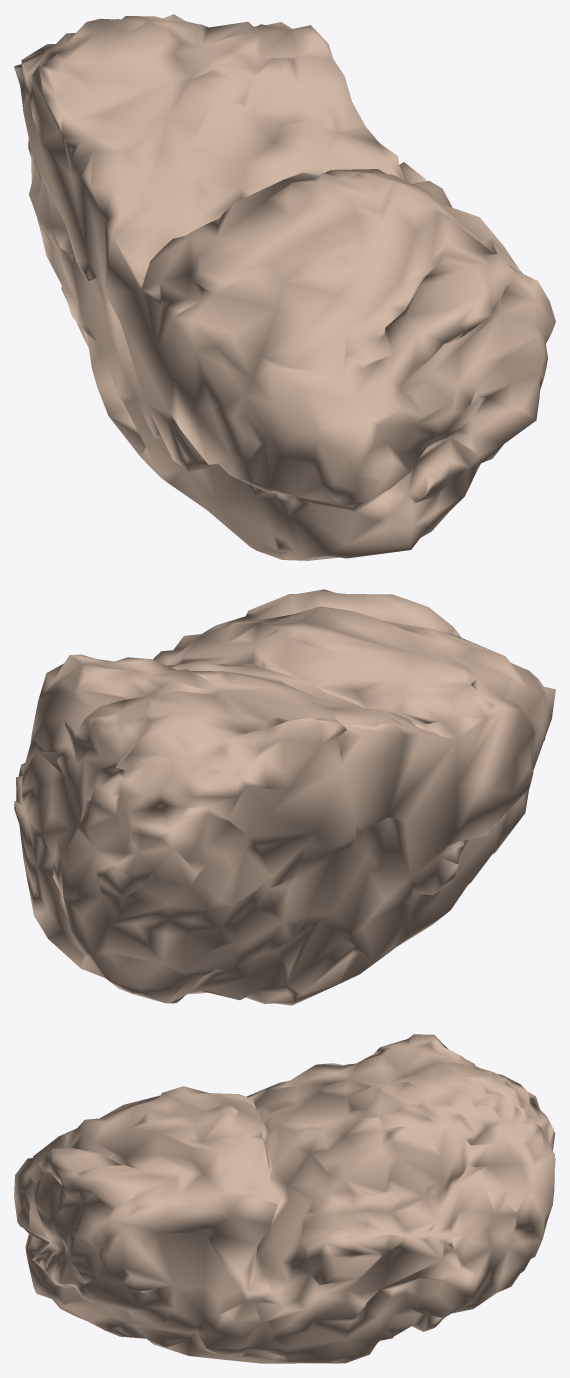
File: rk_boulder_b.glb
3 renders of one model, top to bottom at view 1: azimuth 30°, elevation 25°; view 2: azimuth 150°, elevation 25°; view 3: azimuth 270°, elevation 25°, orthographic. The views are drawn at different scales.
Parts seen in each view (by area): view 1: namaqualand_boulder_06; view 2: namaqualand_boulder_06; view 3: namaqualand_boulder_06.
Part boxes in pixels (x1,y1,x2,y2): namaqualand_boulder_06: [14, 14, 555, 560]; namaqualand_boulder_06: [14, 589, 555, 1005]; namaqualand_boulder_06: [14, 1034, 555, 1363].
Bounding box in the file's own units: 0.5554 × 0.5355 × 1.
